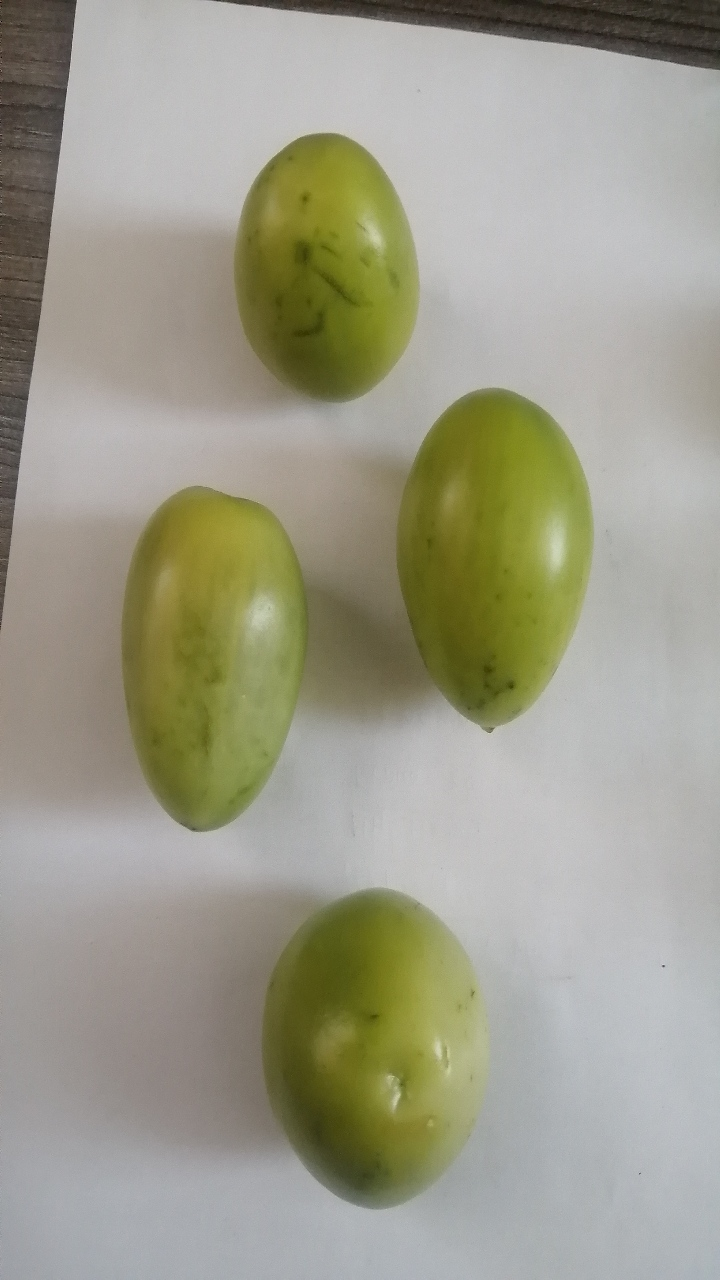tomateVerde: (229, 862, 528, 1234), (381, 372, 601, 768), (109, 462, 315, 860), (211, 108, 435, 429)
